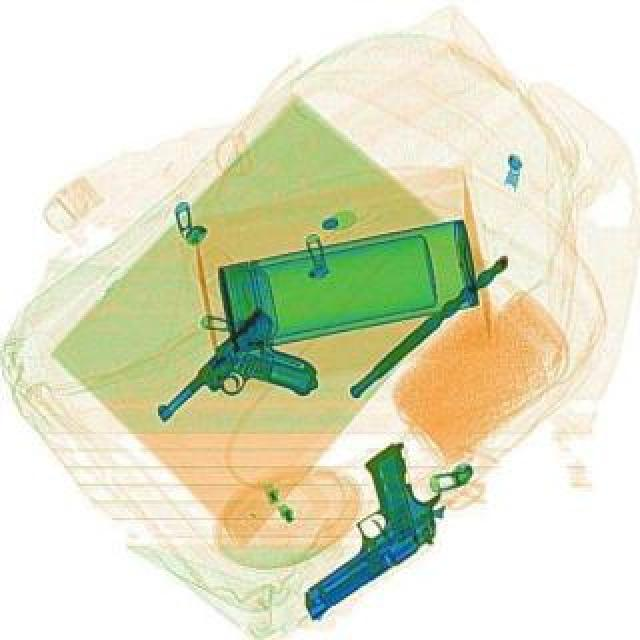gun: (248, 438, 460, 618), (150, 300, 336, 476)
